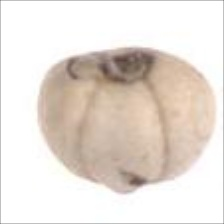L5: (73, 77, 171, 198), (64, 45, 161, 84), (82, 168, 168, 197)
L6: (36, 45, 220, 196)
